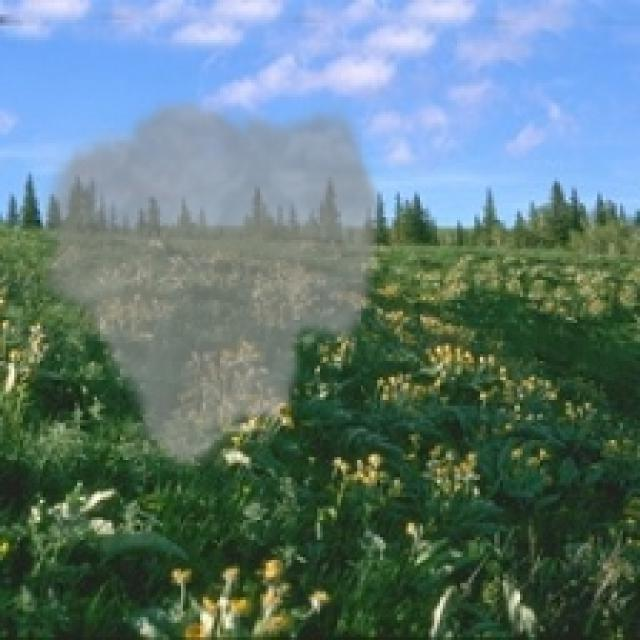Smoke: (31, 94, 388, 477)
